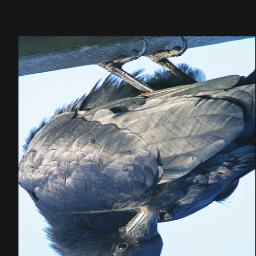Crow: (20, 38, 255, 256)
